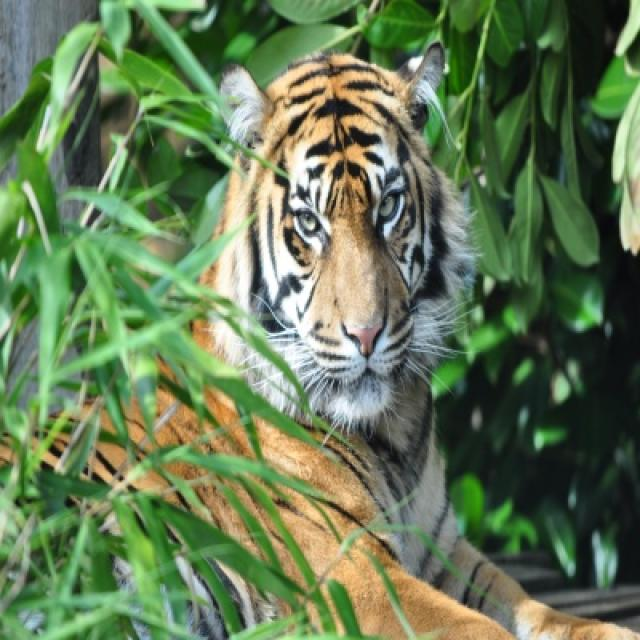Tiger: (172, 42, 627, 629)
